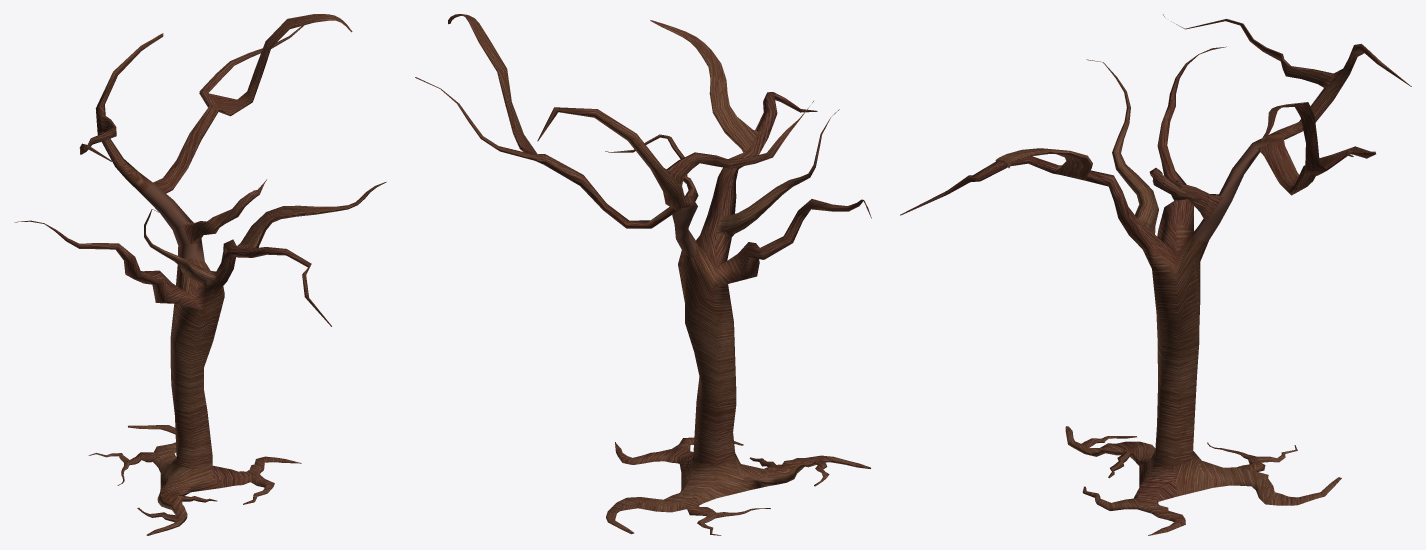
The model's file is New tree.obj.
3 renders of one model, left to right at view 1: azimuth 30°, elevation 25°; view 2: azimuth 150°, elevation 25°; view 3: azimuth 270°, elevation 25°, orthographic. The views are drawn at different scales.
Parts seen in each view (by area): view 1: polySurface1_curve25; view 2: polySurface1_curve25; view 3: polySurface1_curve25.
Boxes of the visible parts, left/top/right/bottom form: polySurface1_curve25: left=14, top=14, right=386, bottom=535; polySurface1_curve25: left=415, top=14, right=871, bottom=535; polySurface1_curve25: left=900, top=14, right=1411, bottom=535.
Bounding box in the file's own units: 48.65 × 51.76 × 50.5.
1 material, 1 textured.
